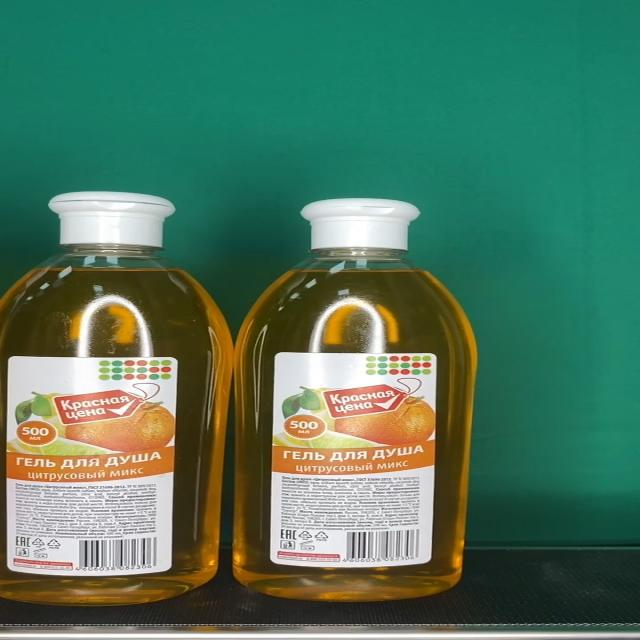Bottle: (234, 196, 476, 602), (0, 189, 232, 606)
Cap: (49, 190, 174, 247), (298, 197, 421, 249)
